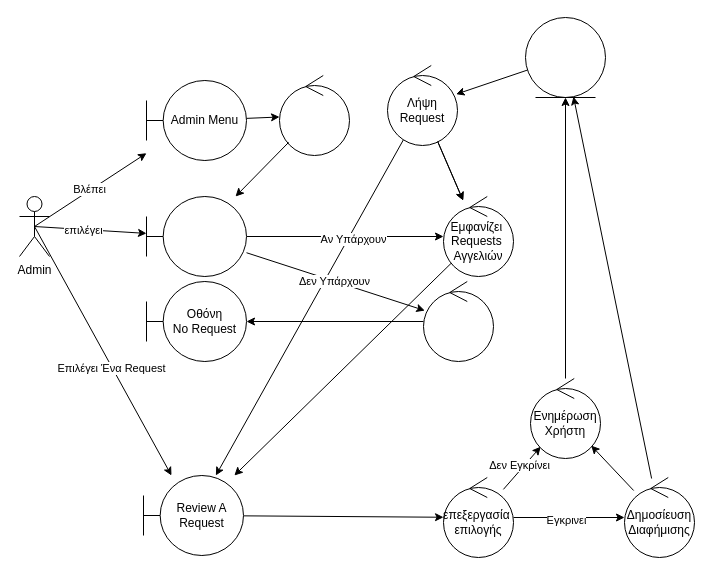
Image size: 712x575. Some labels were removed from this diagram. The shapes that lost their labels are listed below. From the top down, each one's box as (x1, y1, x2, y2) in pixels, then its label:
(524, 16, 606, 98): DataBase
(278, 74, 350, 156): εμφάνησε
(146, 196, 246, 276): Οθόνη Request Αγγελιών
(422, 280, 494, 362): Control Object
